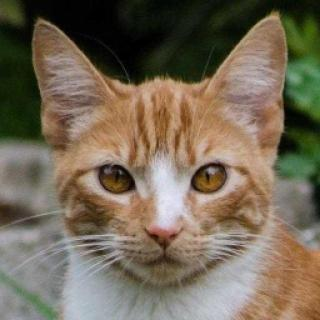cat: (27, 14, 284, 294)
nose: (140, 198, 190, 251)
